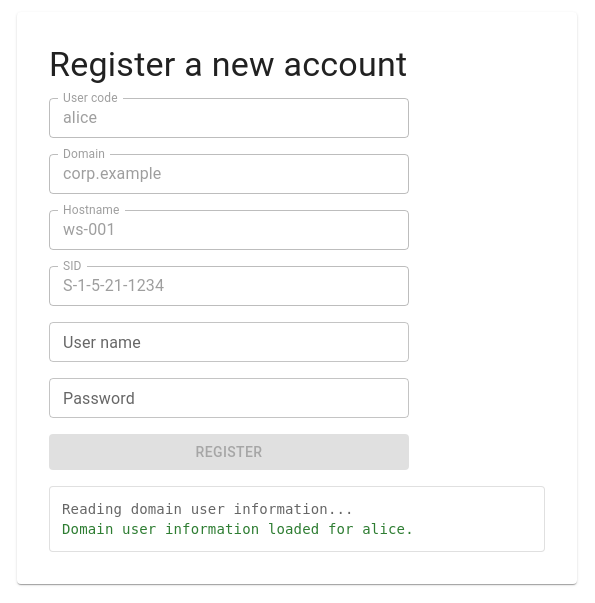
Test: RegisterPage — submission › disables Register until both editable fields are filled
The image size is (595, 603).
Expected: the button "Register" is disabled, x1=49 y1=434 x2=409 y2=470
Type "Alice" into the field labelled "User name" at {"x": 229, "y": 342}, box x1=49 y1=322 x2=409 y2=362
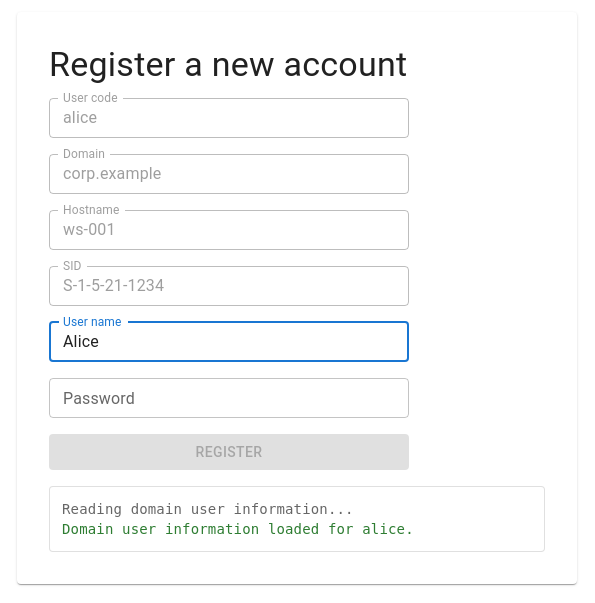
Expected: the button "Register" is disabled, x1=49 y1=434 x2=409 y2=470
Type "secret" into the password field labelled "Password" at {"x": 229, "y": 398}, box x1=49 y1=378 x2=409 y2=418
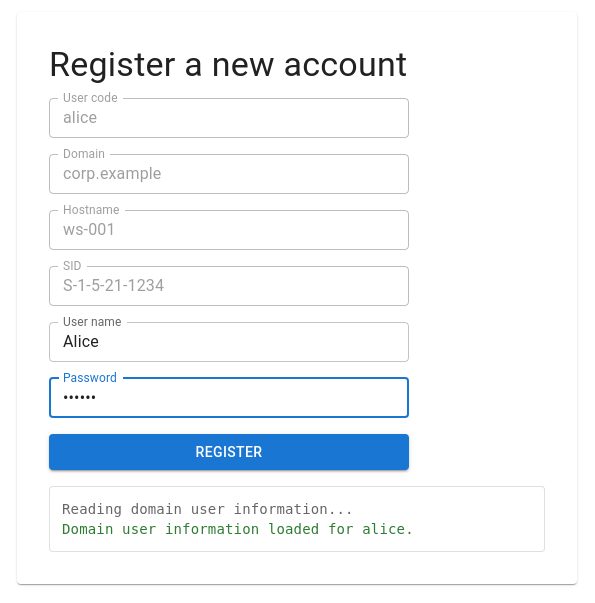
Expected: the button "Register" is enabled, x1=49 y1=434 x2=409 y2=470
